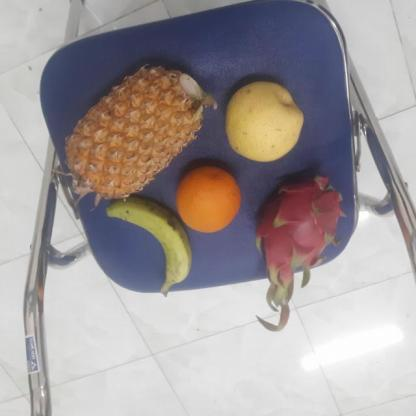banana: (92, 196, 193, 293)
orange: (174, 163, 243, 232)
pear: (221, 80, 304, 160)
pineapple: (61, 66, 209, 200)
pitaya: (247, 167, 342, 278)
